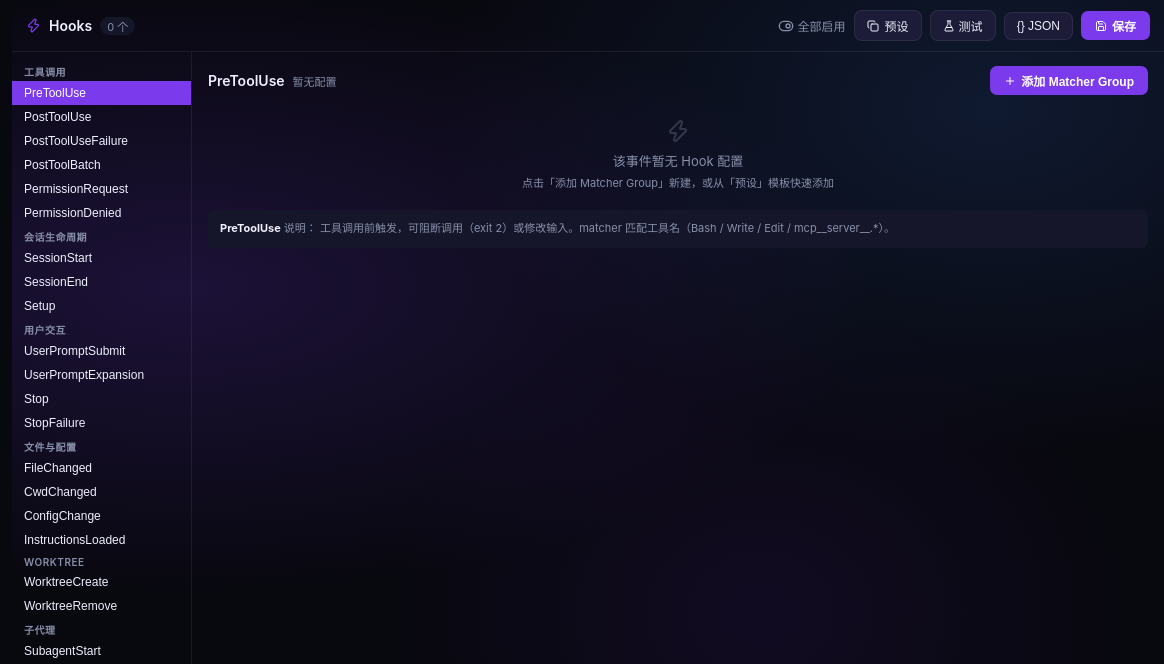
HooksPanel - userEvent 按钮交互 › 点击"预设"按钮展开预设面板
expect the text "Hooks" is shown: met, box left=49, top=17, right=92, bottom=34
Step 1. Click the button "预设" → (888,26), box left=854, top=10, right=922, bottom=41
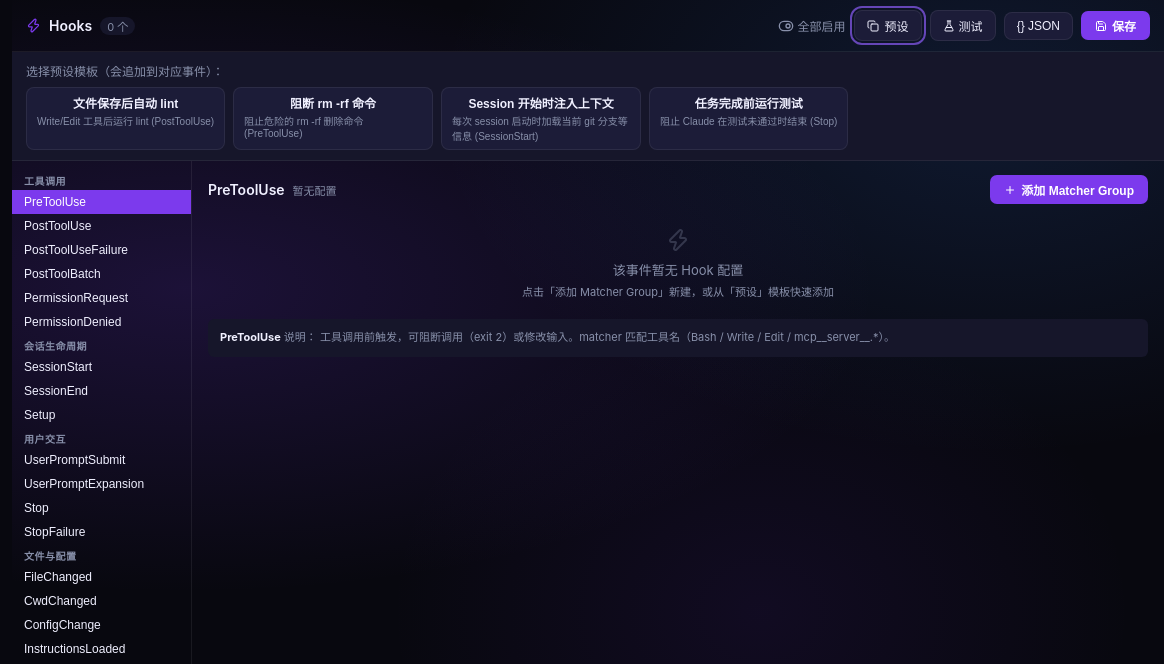
expect the text "选择预设模板（会追加到对应事件）：" is shown: met, box left=26, top=64, right=224, bottom=79
